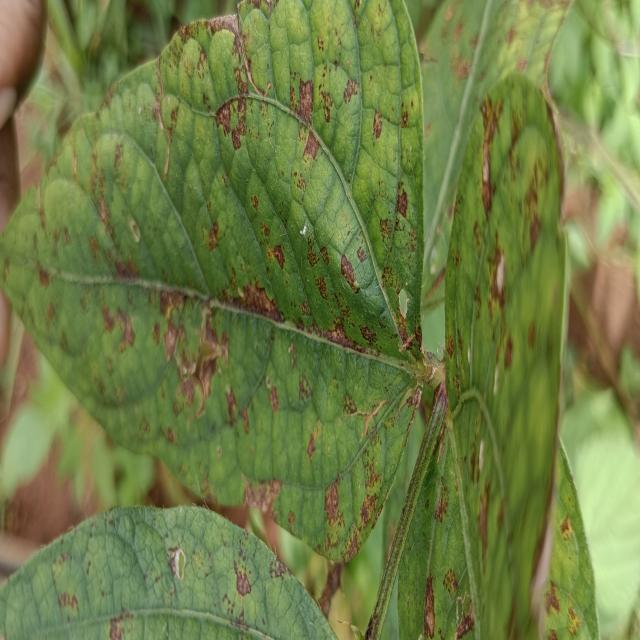Black gram_leaf spot: (2, 0, 424, 556), (406, 71, 562, 640), (0, 502, 335, 636)
